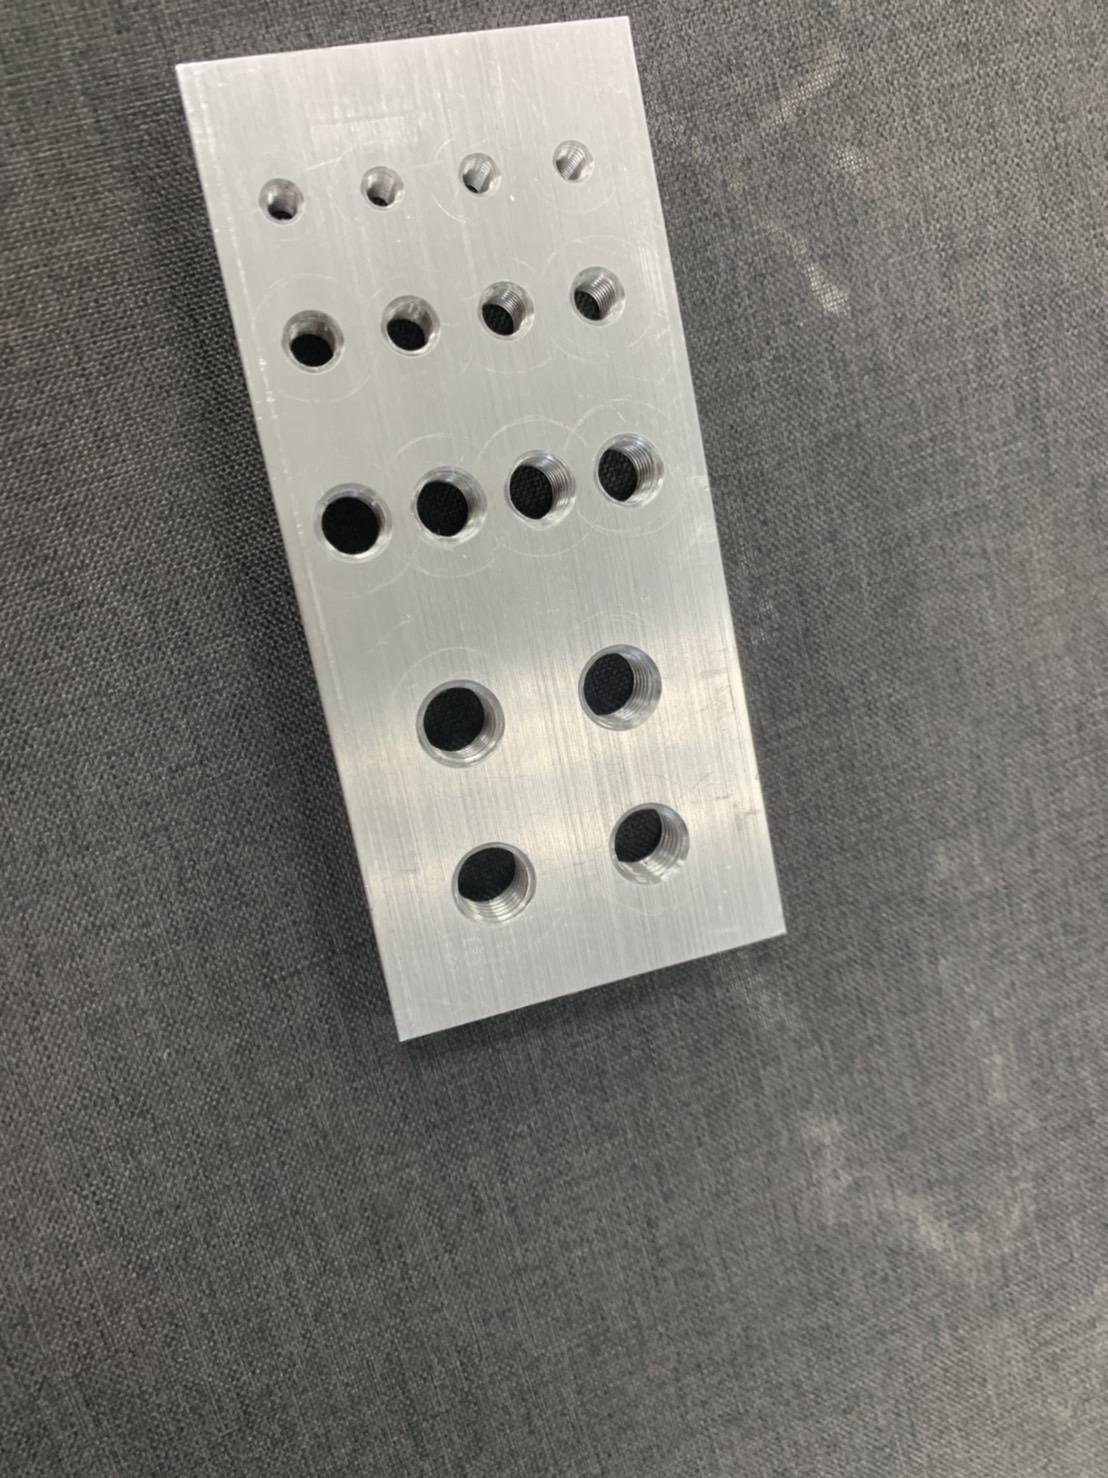hole: (577, 633, 674, 739), (418, 674, 516, 768), (605, 797, 696, 887), (452, 840, 541, 930), (411, 456, 493, 548), (594, 428, 676, 517), (504, 447, 585, 530), (317, 479, 395, 562), (279, 308, 351, 378), (477, 273, 544, 349), (383, 284, 447, 362), (573, 260, 632, 334), (455, 150, 506, 207), (547, 143, 599, 198), (263, 175, 312, 233), (365, 166, 413, 213)
